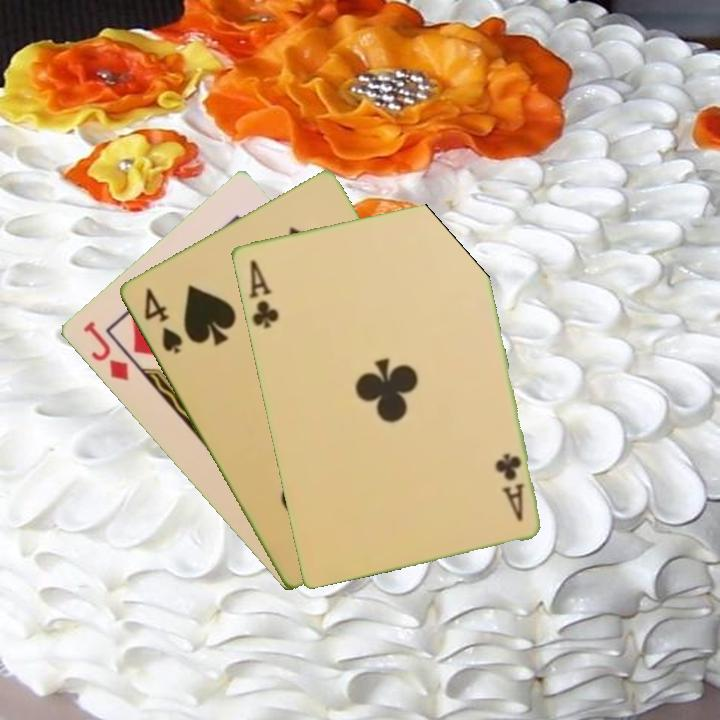4s: (140, 283, 185, 357)
Ac: (244, 256, 282, 331), (491, 449, 526, 524)
Jd: (78, 317, 131, 384)
